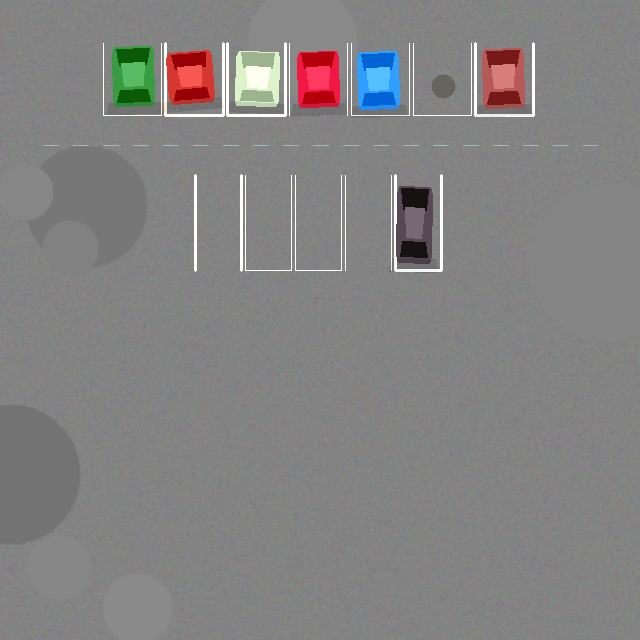space-empty: (195, 175, 241, 270), (245, 175, 291, 270), (295, 175, 341, 270), (345, 175, 391, 270), (413, 43, 471, 115)
space-occupied: (395, 175, 441, 270), (103, 43, 161, 115), (165, 43, 223, 115), (227, 43, 285, 115), (289, 43, 347, 115), (351, 43, 409, 115), (475, 43, 533, 115)
